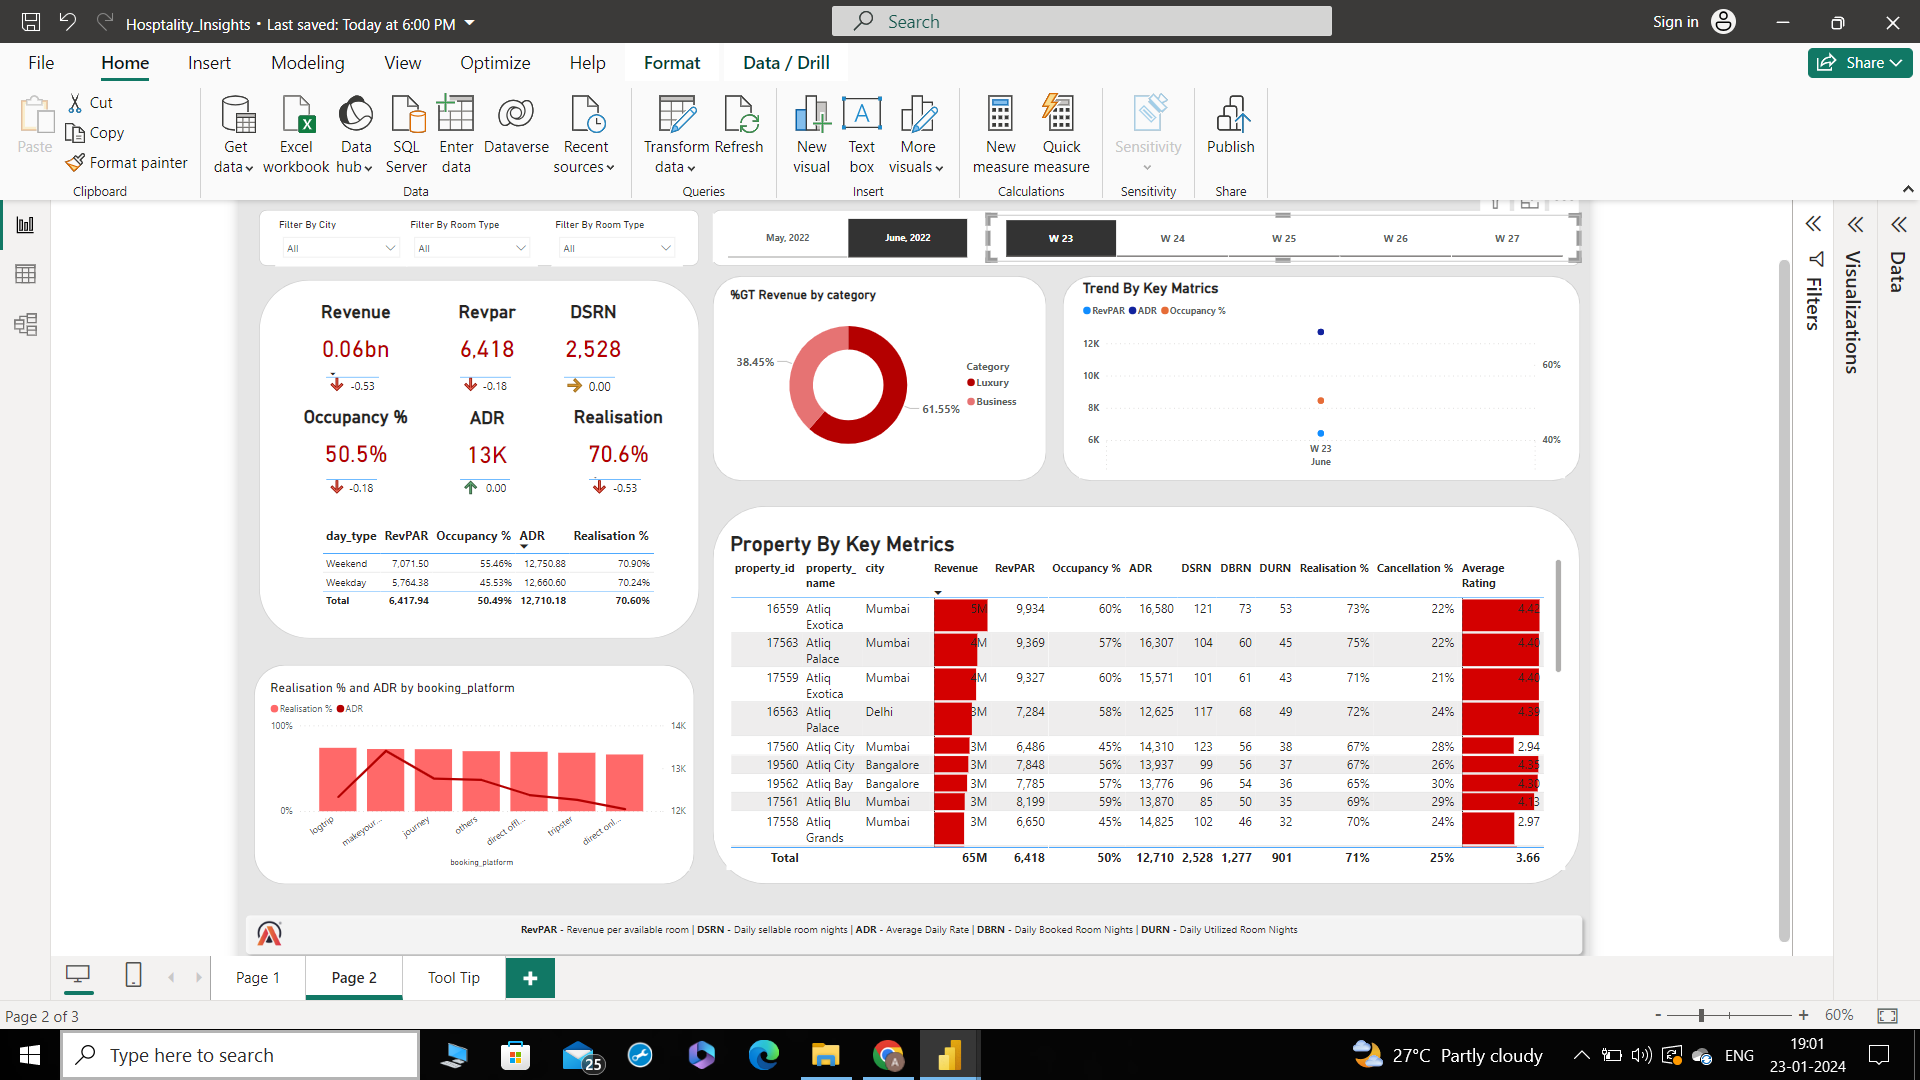

This screenshot's page, from the dashboard's own definition file:
{"tool":"powerbi","page":{"name":"Page 2","canvas":[1800,1100],"ordinal":1},"visuals":[{"type":"shape","box":[0,1016,1800,70],"z":0},{"type":"shape","box":[20,691.4,587.1,292.9],"z":1000},{"type":"shape","box":[632,480,1156,504],"z":2000},{"type":"shape","box":[1098.3,173.3,690,273.3],"z":3000},{"type":"shape","box":[631.7,173.3,445,273.3],"z":4000},{"type":"shape","box":[631.7,85,1156.7,75],"z":5000},{"type":"shape","box":[27.1,178.6,587.1,478.6],"z":6000},{"type":"shape","box":[26.7,85,586.7,75],"z":7000},{"type":"tableEx","title":"Property By Key Metrics","fields":{"Values":["dim_hotels.property_id","dim_hotels.property_name","dim_hotels.city","key_measures (2).Revenue","key_measures (2).RevPAR","key_measures (2).Occupancy %","key_measures (2).ADR","key_measures (2).DSRN","key_measures (2).DBRN","key_measures (2).DURN","key_measures (2).Realisation %","key_measures (2).Cancellation %"]},"box":[650,515.7,1118.6,450],"z":8000},{"type":"slicer","title":"Filter By City","fields":{"Values":["dim_hotels.city"]},"box":[48,96,176,64],"z":9000},{"type":"slicer","title":"Filter By Room Type","fields":{"Values":["dim_rooms.room_class"]},"box":[417,96,175,64],"z":10000},{"type":"slicer","fields":{"Values":["dim_date.mmm yy"]},"box":[631.7,90,358.3,65],"z":11000},{"type":"slicer","fields":{"Values":["dim_date.week no"]},"box":[996.7,91.7,791.7,63.3],"z":12000},{"type":"tableEx","fields":{"Values":["key_measures (2).\"Revenue WoW change %"]},"box":[110.8,281.5,88.5,57.7],"z":13000},{"type":"donutChart","fields":{"Category":["dim_hotels.category"],"Y":["key_measures (2).Revenue"]},"box":[650,188.3,405,241.7],"z":14000},{"type":"lineStackedColumnComboChart","fields":{"Category":["fact_bookings.booking_platform"],"Y":["key_measures (2).Realisation %"],"Y2":["key_measures (2).ADR"]},"box":[37.1,711.4,564.3,254.3],"z":15000},{"type":"lineChart","title":"Trend By Key Matrics","fields":{"Category":["dim_date.mmm yy.Variation.Date Hierarchy.Month","dim_date.week no"],"Y2":["key_measures (2).Occupancy %"],"Y":["key_measures (2).RevPAR","key_measures (2).ADR"]},"box":[1120,178.3,648.3,265],"z":16000},{"type":"tableEx","fields":{"Values":["dim_date.day_type","key_measures (2).RevPAR","key_measures (2).Occupancy %","key_measures (2).ADR","key_measures (2).Realisation %"]},"box":[105,500,455,126.7],"z":17000},{"type":"slicer","title":"Filter By Room Type","fields":{"Values":["dim_rooms.room_class"]},"box":[224,96,175,64],"z":18000},{"type":"image","box":[0,1028,81.3,42.7],"z":20000},{"type":"textbox","box":[345,1029.6,1093.6,39],"z":21000},{"type":"tableEx","fields":{"Values":["key_measures (2).\"DSRN WoW change %"]},"box":[426.9,281.5,88.5,56.2],"z":22000},{"type":"tableEx","fields":{"Values":["key_measures (2).\"Revpar WoW change %"]},"box":[287.7,281.5,89.2,55.4],"z":23000},{"type":"card","title":"DSRN","fields":{"Values":["key_measures (2).DSRN"]},"box":[384.3,206.8,175,95],"z":24000},{"type":"card","title":"Revpar","fields":{"Values":["key_measures (2).RevPAR"]},"box":[242.7,206.5,175,95],"z":25000},{"type":"card","title":"Revenue","fields":{"Values":["key_measures (2).Revenue"]},"box":[67.7,206.5,175,95],"z":26000},{"type":"tableEx","fields":{"Values":["key_measures (2).\"Occupancy WoW change %"]},"box":[110.8,417.7,88.5,57.7],"z":27000},{"type":"card","title":"Occupancy %","fields":{"Values":["key_measures (2).Occupancy %"]},"box":[67.7,347.5,175,95],"z":28000},{"type":"tableEx","fields":{"Values":["key_measures (2).\"ADR WoW change %"]},"box":[287.7,417.7,88.5,57.7],"z":29000},{"type":"tableEx","fields":{"Values":["key_measures (2).\"Revenue WoW change %"]},"box":[460,418.5,88.5,57.7],"z":30000},{"type":"card","title":"ADR","fields":{"Values":["key_measures (2).ADR"]},"box":[242.7,348.5,175,95],"z":31000},{"type":"card","title":"Realisation","fields":{"Values":["key_measures (2).Realisation %"]},"box":[417.7,347.5,175,95],"z":31500}]}

Visuals, with their boxes on the page's 1800x1100 design canvas (x1, y1, x2, y2). These are canvas units, not pixel positions in the 1920x1080 screenshot, which may show the page scaled, cropped or inside an application window:
shape: locate(0, 1016, 1800, 1086)
shape: locate(20, 691, 607, 984)
shape: locate(632, 480, 1788, 984)
shape: locate(1098, 173, 1788, 447)
shape: locate(632, 173, 1077, 447)
shape: locate(632, 85, 1788, 160)
shape: locate(27, 179, 614, 657)
shape: locate(27, 85, 613, 160)
"Property By Key Metrics" tableEx: locate(650, 516, 1769, 966)
"Filter By City" slicer: locate(48, 96, 224, 160)
"Filter By Room Type" slicer: locate(417, 96, 592, 160)
slicer - dim_date.mmm yy: locate(632, 90, 990, 155)
slicer - dim_date.week no: locate(997, 92, 1788, 155)
tableEx - key_measures (2)."Revenue WoW change %: locate(111, 282, 199, 339)
donutChart - dim_hotels.category x key_measures (2).Revenue: locate(650, 188, 1055, 430)
lineStackedColumnComboChart - fact_bookings.booking_platform x key_measures (2).Realisation %: locate(37, 711, 601, 966)
"Trend By Key Matrics" lineChart: locate(1120, 178, 1768, 443)
tableEx - dim_date.day_type x key_measures (2).RevPAR: locate(105, 500, 560, 627)
"Filter By Room Type" slicer: locate(224, 96, 399, 160)
image: locate(0, 1028, 81, 1071)
textbox: locate(345, 1030, 1439, 1069)
tableEx - key_measures (2)."DSRN WoW change %: locate(427, 282, 515, 338)
tableEx - key_measures (2)."Revpar WoW change %: locate(288, 282, 377, 337)
"DSRN" card: locate(384, 207, 559, 302)
"Revpar" card: locate(243, 206, 418, 302)
"Revenue" card: locate(68, 206, 243, 302)
tableEx - key_measures (2)."Occupancy WoW change %: locate(111, 418, 199, 475)
"Occupancy %" card: locate(68, 348, 243, 442)
tableEx - key_measures (2)."ADR WoW change %: locate(288, 418, 376, 475)
tableEx - key_measures (2)."Revenue WoW change %: locate(460, 418, 548, 476)
"ADR" card: locate(243, 348, 418, 444)
"Realisation" card: locate(418, 348, 593, 442)
